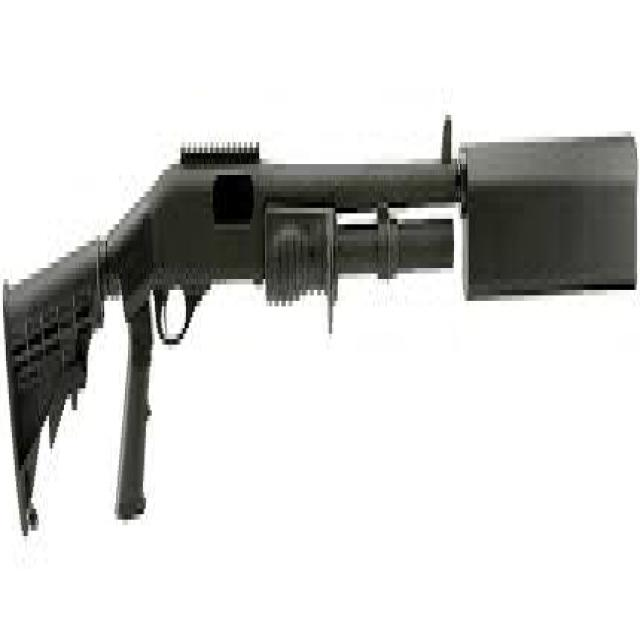long weapon: (4, 85, 635, 602)
